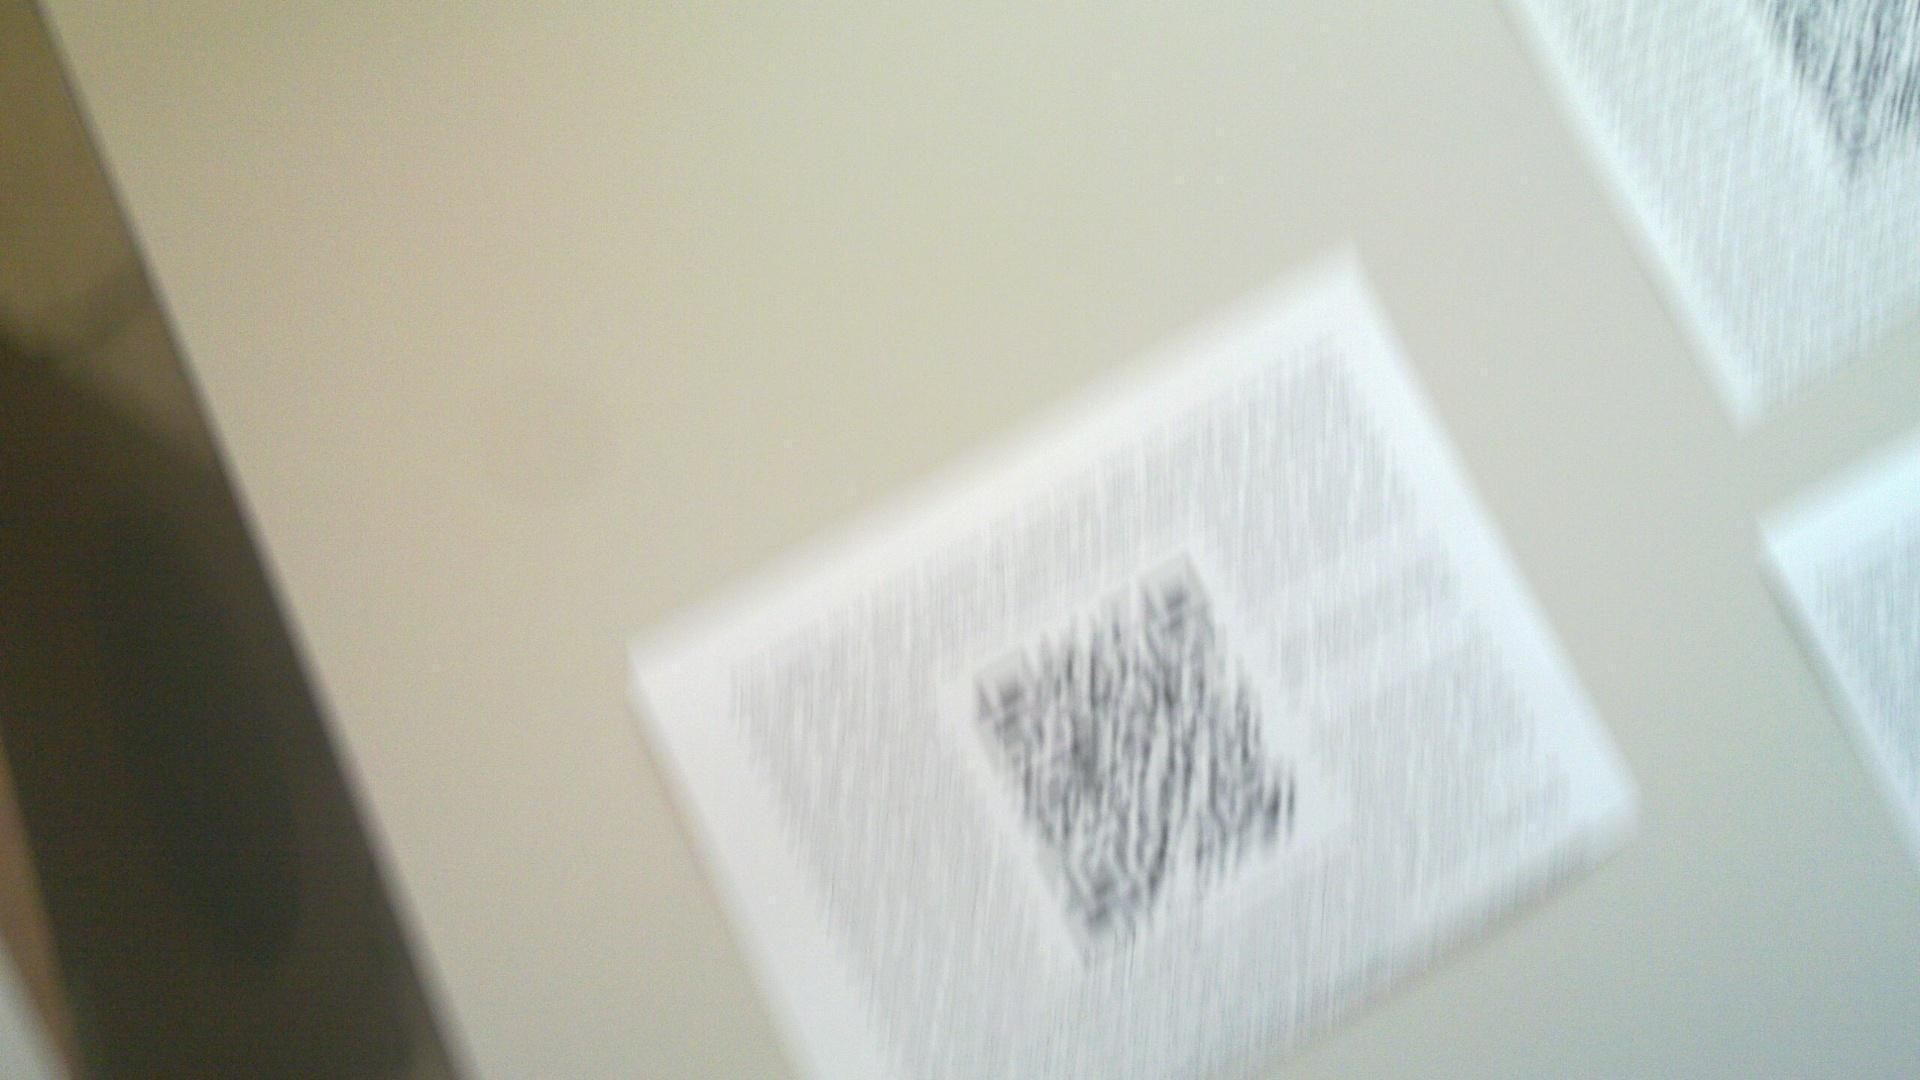qr_code: (976, 554, 1302, 938), (1763, 0, 1920, 162)
